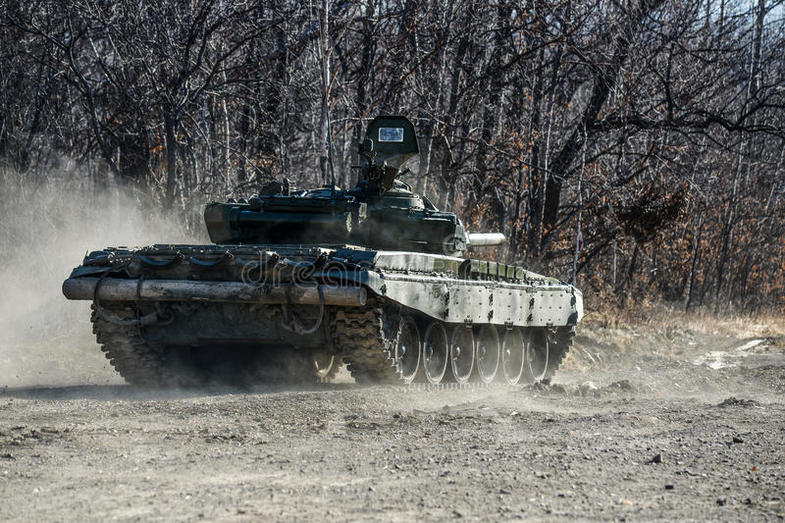t72: (59, 174, 575, 384)
